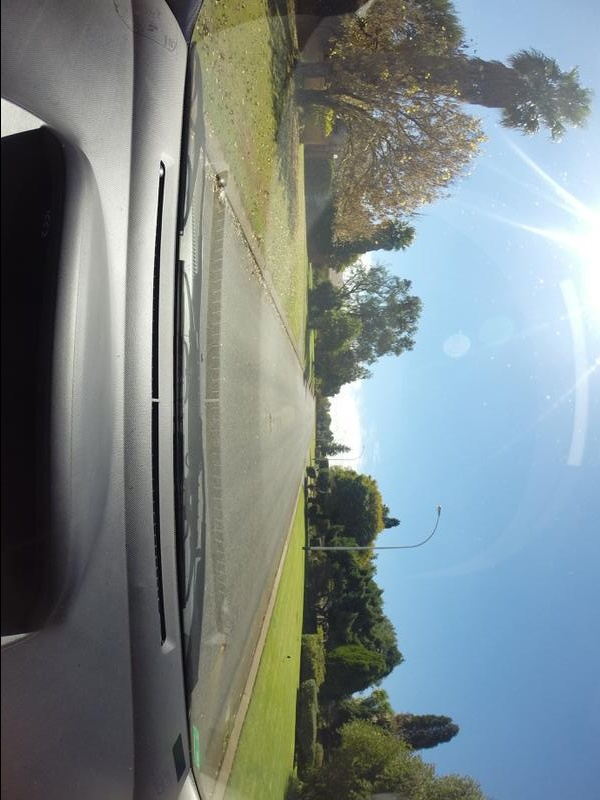pothole: (257, 411, 279, 449)
